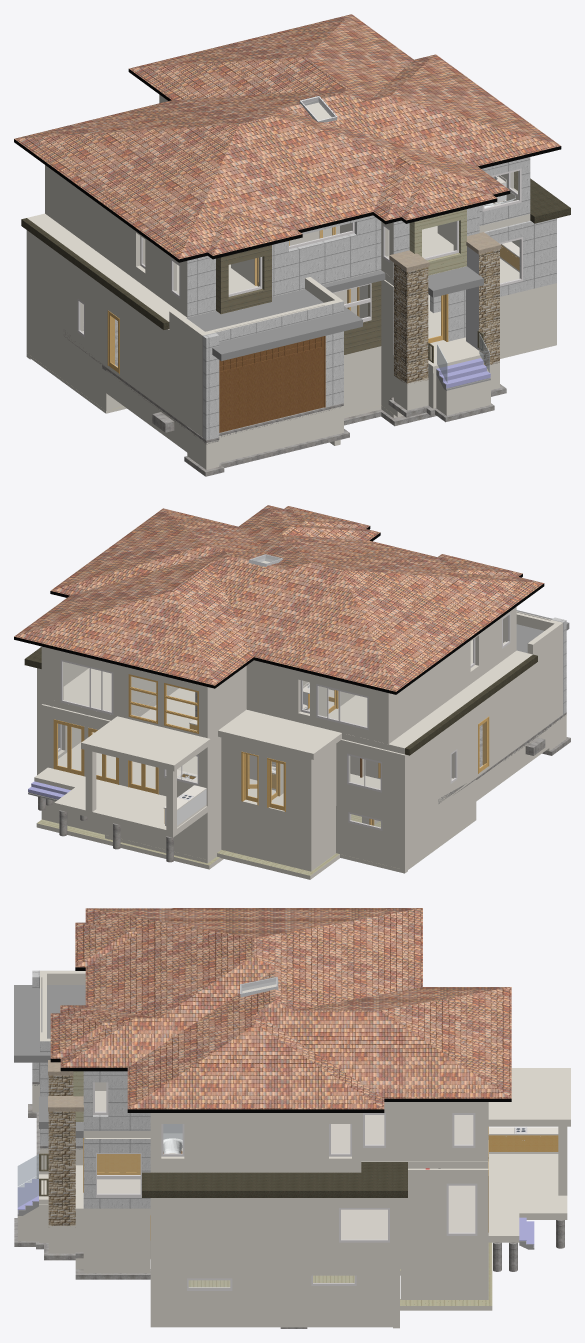
The picture shows the model from 3 angles, top to bottom: view 1: azimuth 30°, elevation 25°; view 2: azimuth 150°, elevation 25°; view 3: azimuth 270°, elevation 25°; orthographic projection. The views are drawn at different scales.
Visible parts, largest first — view 1: Roof-Tile French Red, Paint-100, Ceiling-Tile 60x120, Wd-Walnut Horizontal, Paint-03, Stn-Ledgestone, Surf-Poured Concrete, Wd Siding Dark, Paving-Asphalt Dark, Paint-05, Mtl-Aluminium, Wd Siding Medium (+4 smaller); view 2: Paint-100, Roof-Tile French Red, Wd-Pine Horizontal, Mtl-Aluminium, Paint-05, Surf-Poured Concrete, Paving-Asphalt Dark, Wd Siding Medium, Wd-Pine Vertical, Surf-Plastic Laminate, Glass-Clear, Paint-03 (+1 smaller); view 3: Paint-100, Roof-Tile French Red, Paving-Asphalt Dark, Ceiling-Tile 60x120, Stn-Ledgestone, Paint-03, Mtl-Aluminium, Surf-Poured Concrete, Wd-Pine Horizontal, Paint-05, Wd Siding Medium, Glass-Blue (+3 smaller).
Boxes of the visible parts, <box> form: Roof-Tile French Red: <box>14,14,560,259</box>; Paint-100: <box>26,94,556,469</box>; Ceiling-Tile 60x120: <box>187,157,556,440</box>; Wd-Walnut Horizontal: <box>219,336,325,432</box>; Paint-03: <box>186,100,483,361</box>; Stn-Ledgestone: <box>394,249,499,383</box>; Surf-Poured Concrete: <box>64,221,528,476</box>; Wd Siding Dark: <box>216,245,483,363</box>; Paving-Asphalt Dark: <box>21,171,570,329</box>; Paint-05: <box>14,69,561,262</box>; Mtl-Aluminium: <box>77,168,522,337</box>; Wd Siding Medium: <box>112,209,466,409</box>; Paint-100: <box>34,561,566,879</box>; Roof-Tile French Red: <box>14,505,543,691</box>; Wd-Pine Horizontal: <box>53,676,489,825</box>; Mtl-Aluminium: <box>58,613,510,830</box>; Paint-05: <box>14,526,544,694</box>; Surf-Poured Concrete: <box>38,692,570,862</box>; Paving-Asphalt Dark: <box>24,647,537,755</box>; Wd Siding Medium: <box>37,814,380,875</box>; Wd-Pine Vertical: <box>128,674,198,733</box>; Surf-Plastic Laminate: <box>163,682,309,827</box>; Glass-Clear: <box>58,689,380,827</box>; Paint-03: <box>516,610,569,652</box>; Paint-100: <box>17,970,570,1328</box>; Roof-Tile French Red: <box>50,908,511,1109</box>; Paving-Asphalt Dark: <box>142,1162,407,1197</box>; Ceiling-Tile 60x120: <box>32,970,150,1208</box>; Stn-Ledgestone: <box>48,1075,75,1225</box>; Paint-03: <box>14,985,85,1137</box>; Mtl-Aluminium: <box>93,1082,477,1290</box>; Surf-Poured Concrete: <box>14,1082,564,1328</box>; Wd-Pine Horizontal: <box>83,1127,558,1240</box>; Paint-05: <box>50,967,511,1112</box>; Wd Siding Medium: <box>73,1071,492,1305</box>; Glass-Blue: <box>17,1124,182,1207</box>.
Bounding box in the file's own units: 2007 × 1165 × 2215.
30 materials, 13 textured.
